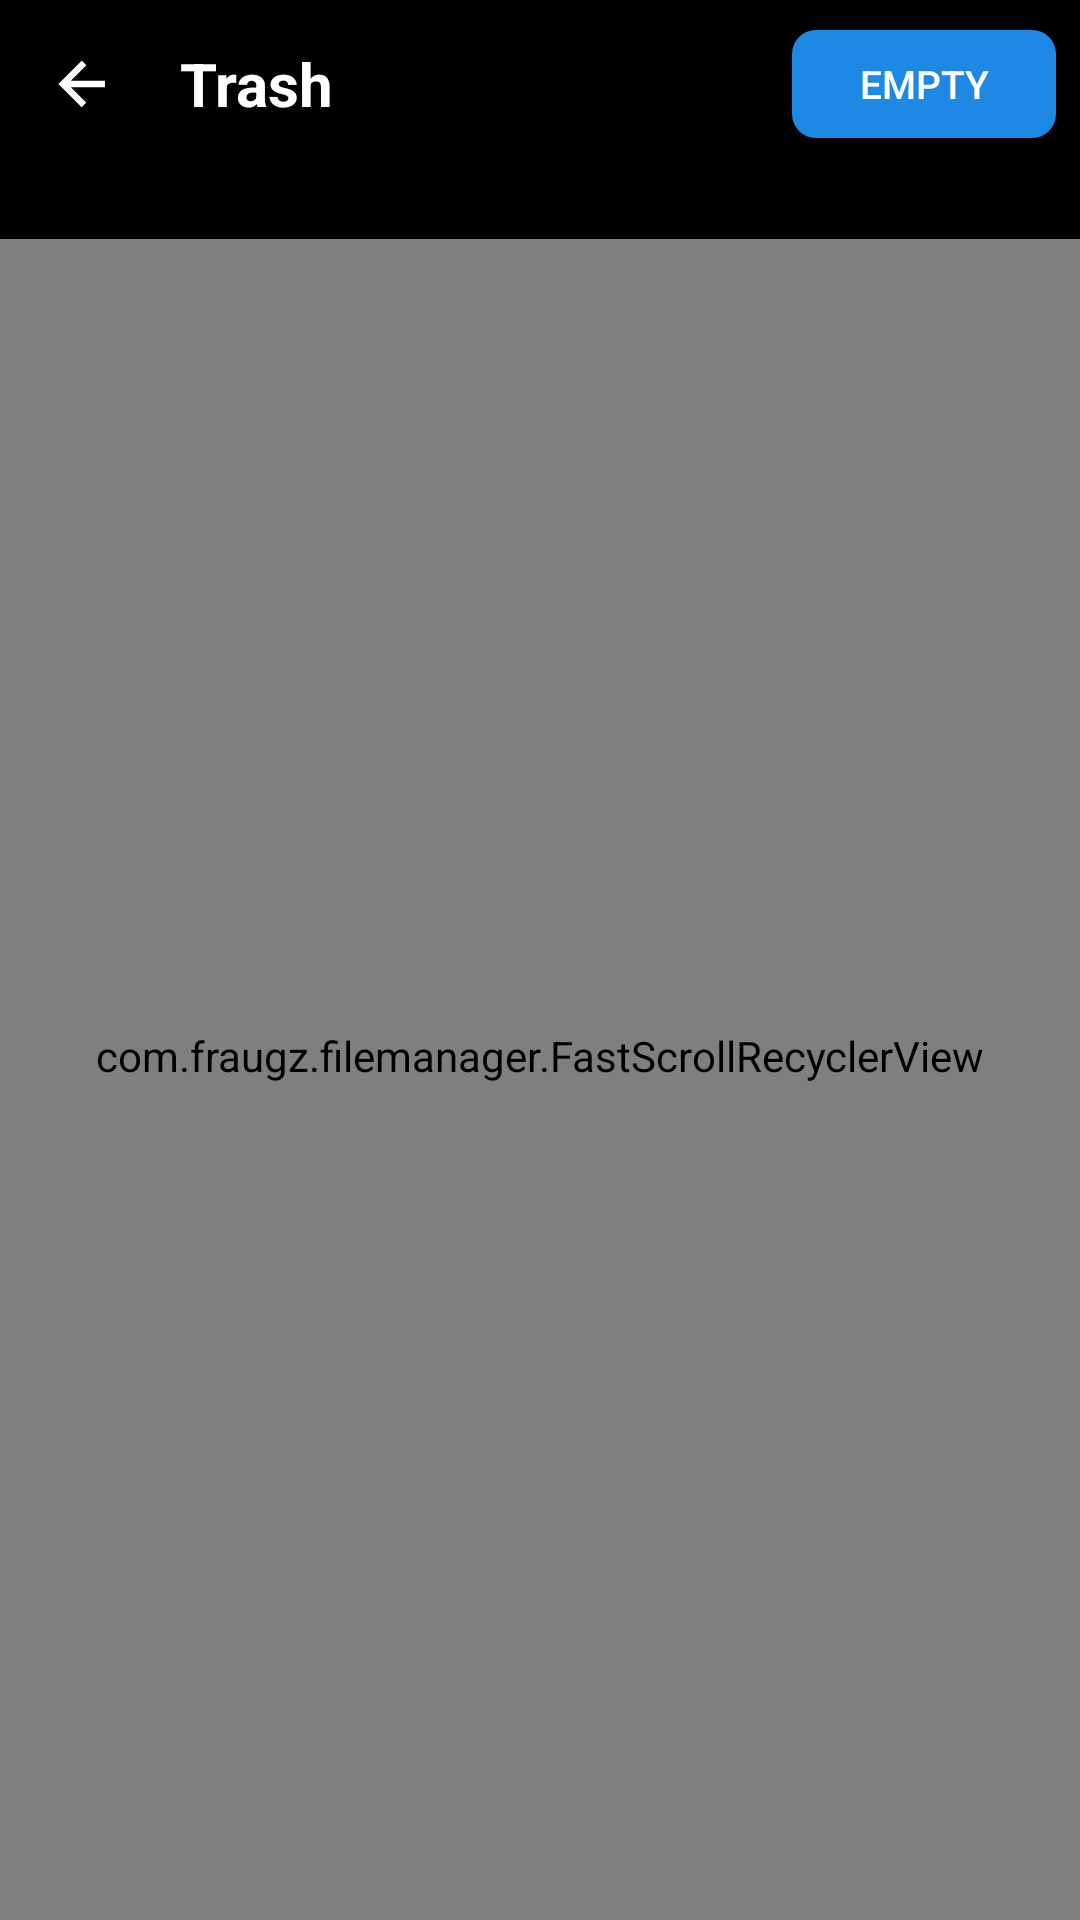

Point at icon controls on the screen. Image size 1080x1920, points as (x,y).
Back: (81,83)
